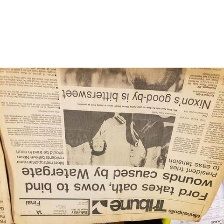news_paper: (0, 66, 223, 223)
